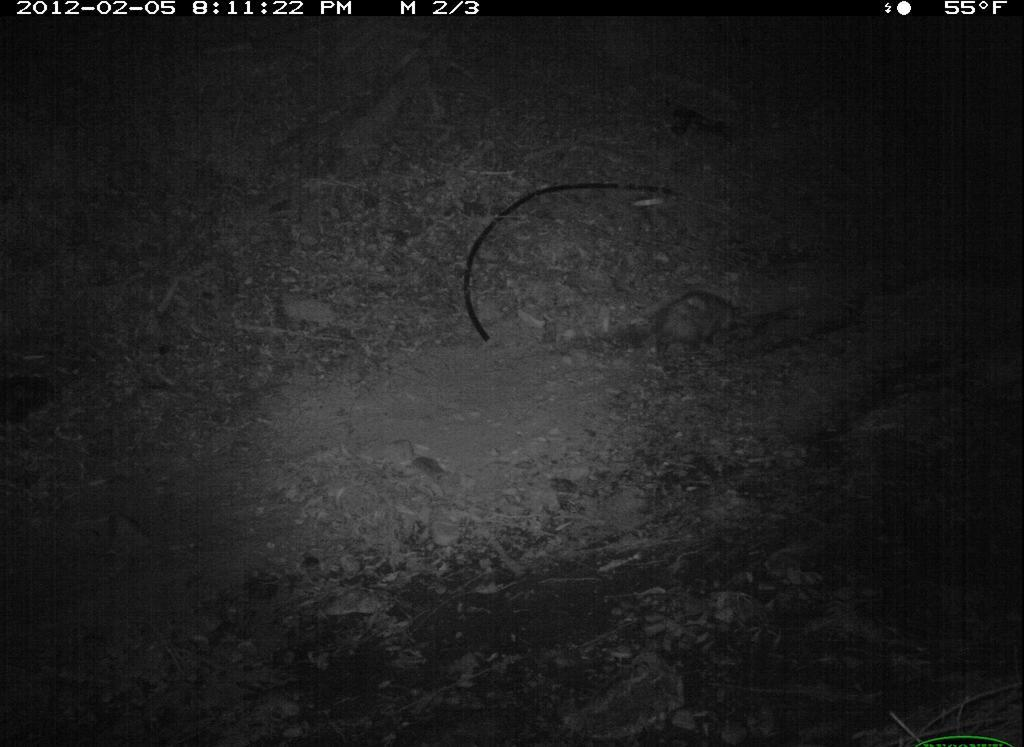opossum: (637, 278, 747, 378)
